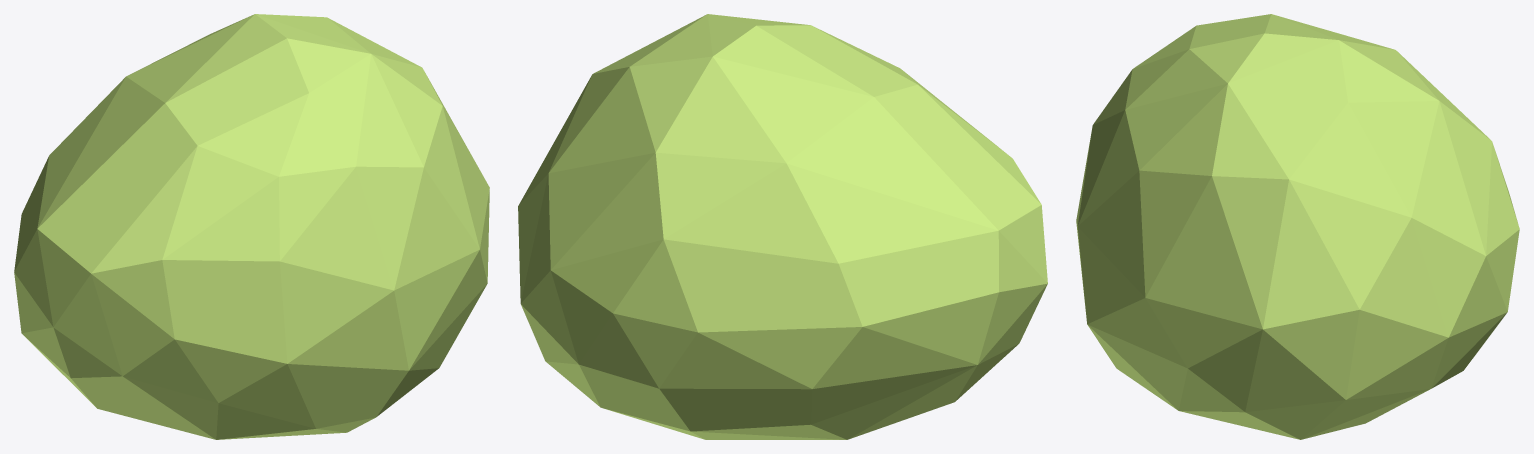
Rendered from Bush_f_m_05.fbx.
3 renders of one model, left to right at view 1: azimuth 30°, elevation 25°; view 2: azimuth 150°, elevation 25°; view 3: azimuth 270°, elevation 25°, orthographic. The views are drawn at different scales.
Visible parts, largest first — view 1: Bush_f_m_05; view 2: Bush_f_m_05; view 3: Bush_f_m_05.
Part boxes in pixels (left/top/right/bottom): Bush_f_m_05: left=14, top=14, right=489, bottom=439; Bush_f_m_05: left=518, top=14, right=1047, bottom=439; Bush_f_m_05: left=1076, top=14, right=1519, bottom=439.
Bounding box in the file's own units: 191 × 149 × 159.
